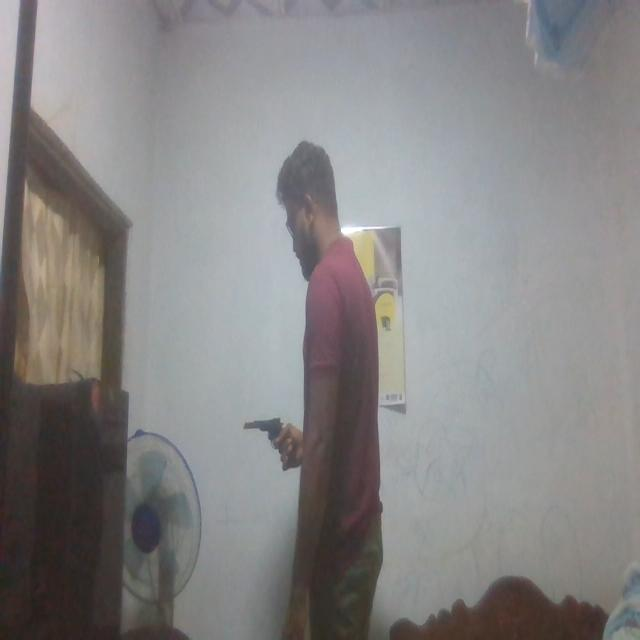Person: (266, 131, 387, 640)
